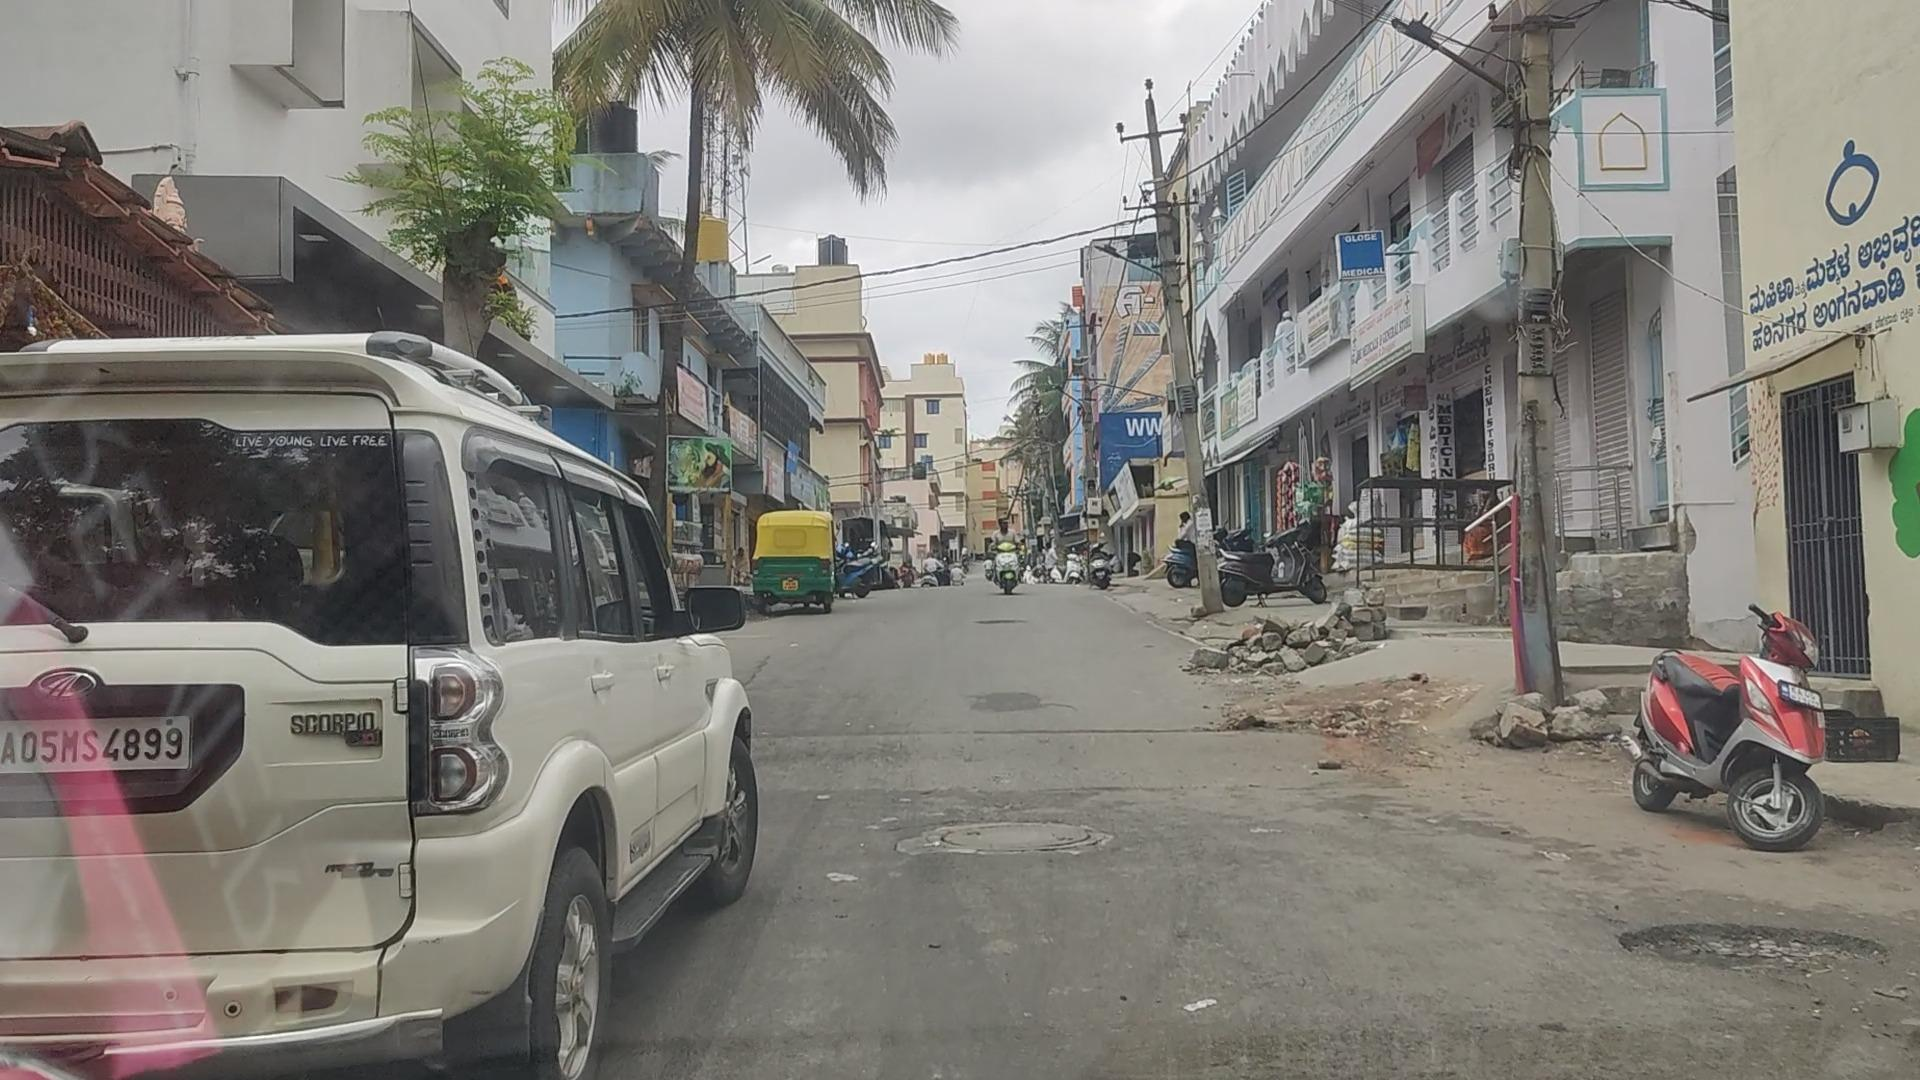RoadDamages: (1618, 890, 1895, 1001), (891, 806, 1116, 868)
